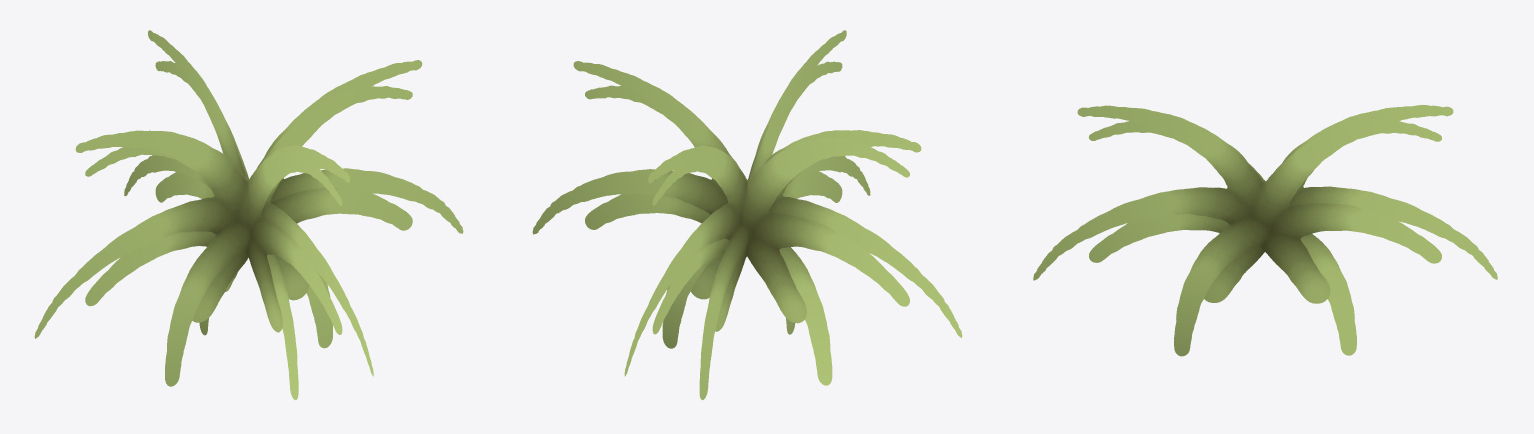
File: HP3_weed032 1.fbx
3 renders of one model, left to right at view 1: azimuth 30°, elevation 25°; view 2: azimuth 150°, elevation 25°; view 3: azimuth 270°, elevation 25°, orthographic. The views are drawn at different scales.
Parts seen in each view (by area): view 1: HP3_weed032; view 2: HP3_weed032; view 3: HP3_weed032.
Part boxes in pixels (x1,y1,x2,y2): HP3_weed032: (34, 30, 463, 400); HP3_weed032: (532, 30, 962, 400); HP3_weed032: (1033, 105, 1497, 356).
Size of the model in its own units: 11.74 by 6.83 by 11.74.
